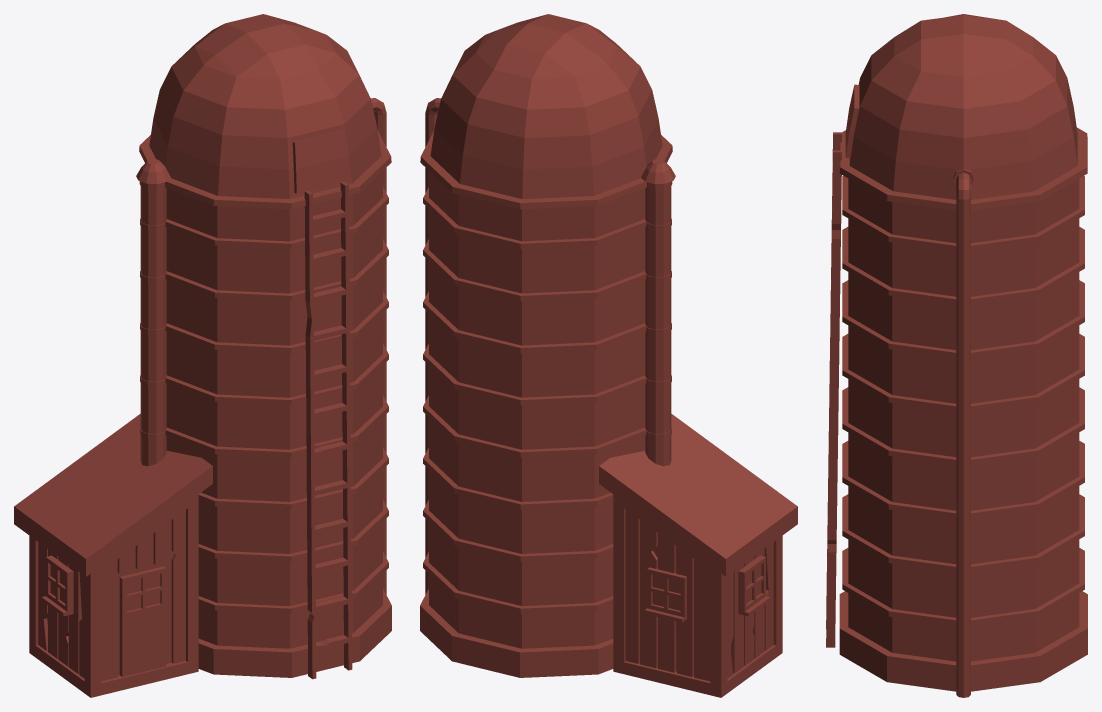
Rendered from Silo_House.glb.
3 renders of one model, left to right at view 1: azimuth 30°, elevation 25°; view 2: azimuth 150°, elevation 25°; view 3: azimuth 270°, elevation 25°, orthographic. The views are drawn at different scales.
Visible parts, largest first — view 1: Silo_House_Cylinder.003; view 2: Silo_House_Cylinder.003; view 3: Silo_House_Cylinder.003.
Boxes of the visible parts, bbox=[...] form: Silo_House_Cylinder.003: bbox=[14, 14, 391, 697]; Silo_House_Cylinder.003: bbox=[420, 14, 797, 697]; Silo_House_Cylinder.003: bbox=[826, 14, 1087, 697].
Bounding box in the file's own units: 5.34 × 9.07 × 3.51.
